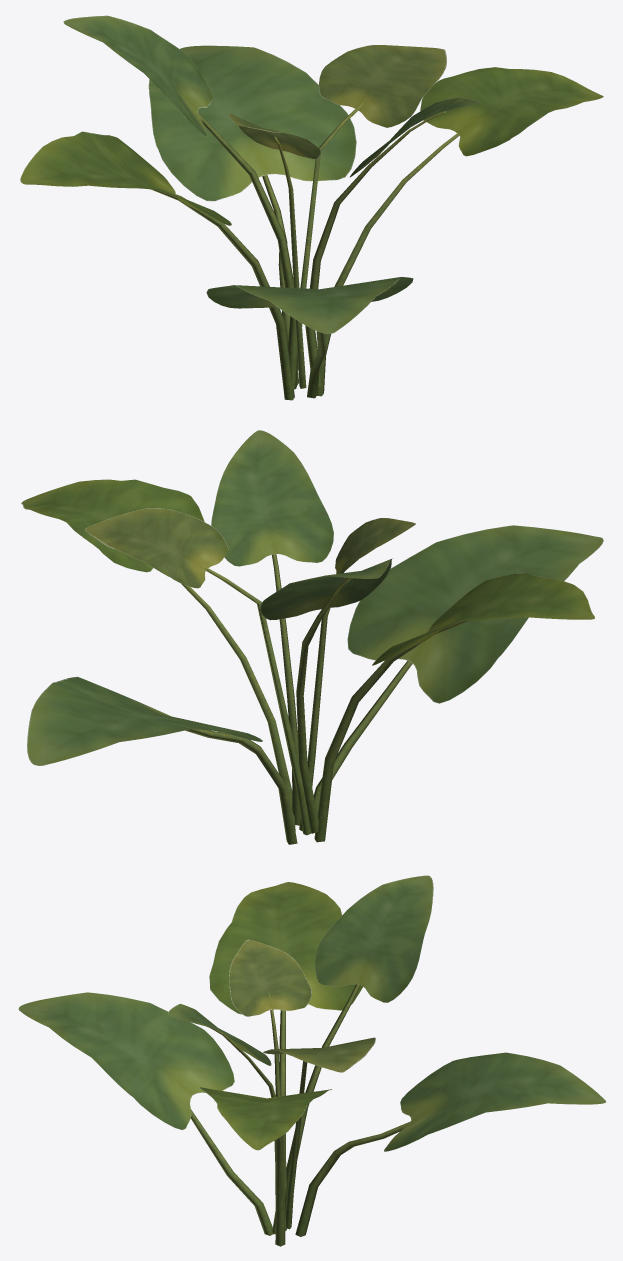
File: Grass1.fbx
3 renders of one model, top to bottom at view 1: azimuth 30°, elevation 25°; view 2: azimuth 150°, elevation 25°; view 3: azimuth 270°, elevation 25°, orthographic. The views are drawn at different scales.
Visible parts, largest first — view 1: Grass1; view 2: Grass1; view 3: Grass1.
Part boxes in pixels (x1,y1,x2,y2): Grass1: [20, 15, 603, 400]; Grass1: [21, 430, 603, 844]; Grass1: [18, 875, 606, 1246].
Bounding box in the file's own units: 0.428 × 0.2503 × 0.4511.
